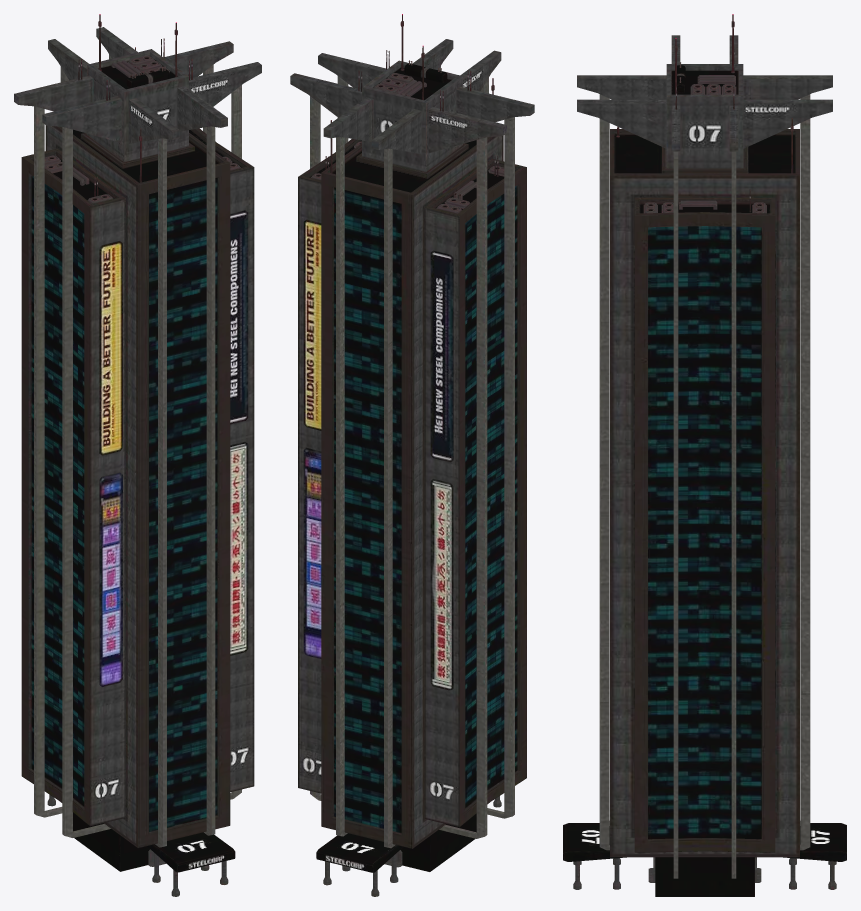
File: sci-fi-corporate-building.glb
3 renders of one model, left to right at view 1: azimuth 30°, elevation 25°; view 2: azimuth 150°, elevation 25°; view 3: azimuth 270°, elevation 25°, orthographic. The views are drawn at different scales.
Visible parts, largest first — view 1: sci-fi-corporate-building.001; view 2: sci-fi-corporate-building.001; view 3: sci-fi-corporate-building.001.
Boxes of the visible parts, x1,y1,x2,y2 form: sci-fi-corporate-building.001: (14, 14, 261, 896); sci-fi-corporate-building.001: (290, 14, 534, 896); sci-fi-corporate-building.001: (563, 14, 846, 896).
Size of the model in its own units: 91.61 by 335 by 102.
2 materials, 1 textured.
